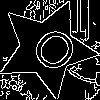O: (21, 23, 82, 83)
